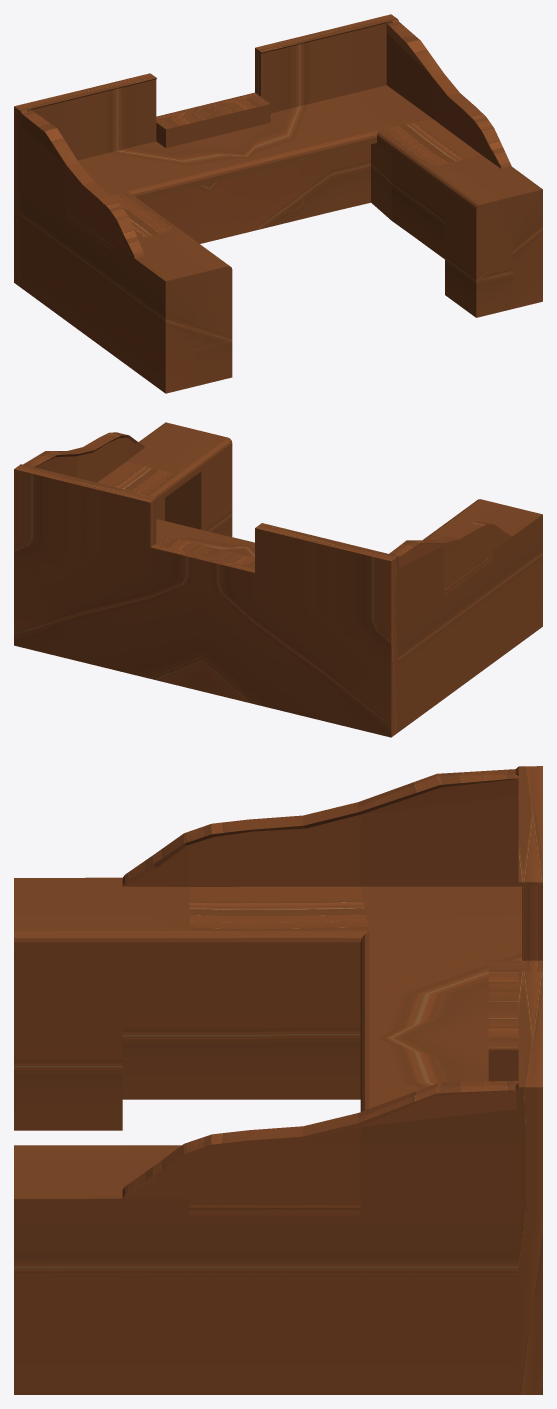
Rendered from table2.fbx.
3 renders of one model, top to bottom at view 1: azimuth 30°, elevation 25°; view 2: azimuth 150°, elevation 25°; view 3: azimuth 270°, elevation 25°, orthographic. The views are drawn at different scales.
Visible parts, largest first — view 1: Cube; view 2: Cube; view 3: Cube.
Part boxes in pixels (x1,y1,x2,y2): Cube: (14,14,542,393); Cube: (14,422,542,737); Cube: (14,766,542,1394).
Bounding box in the file's own units: 456 × 204 × 317.
2 materials, 2 textured.
